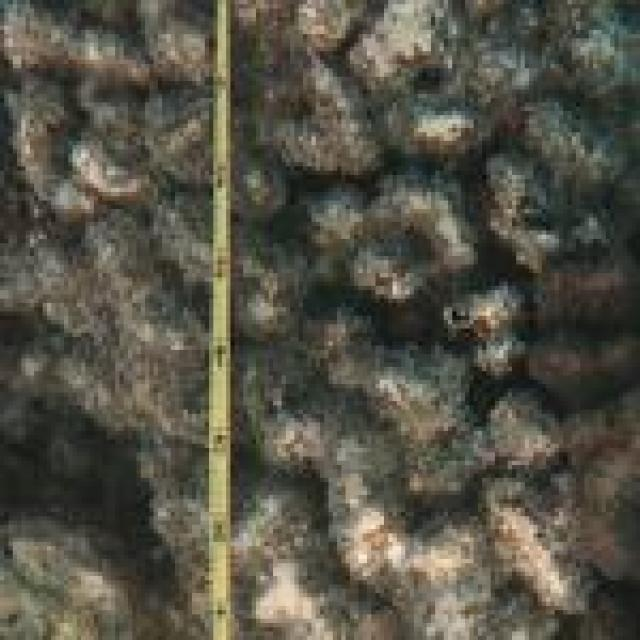Dead Coral: (213, 30, 640, 518)
